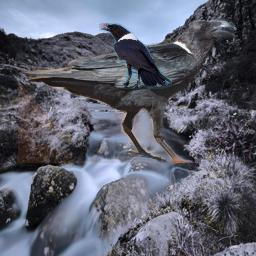Crow: (18, 16, 236, 163), (99, 23, 172, 89)
